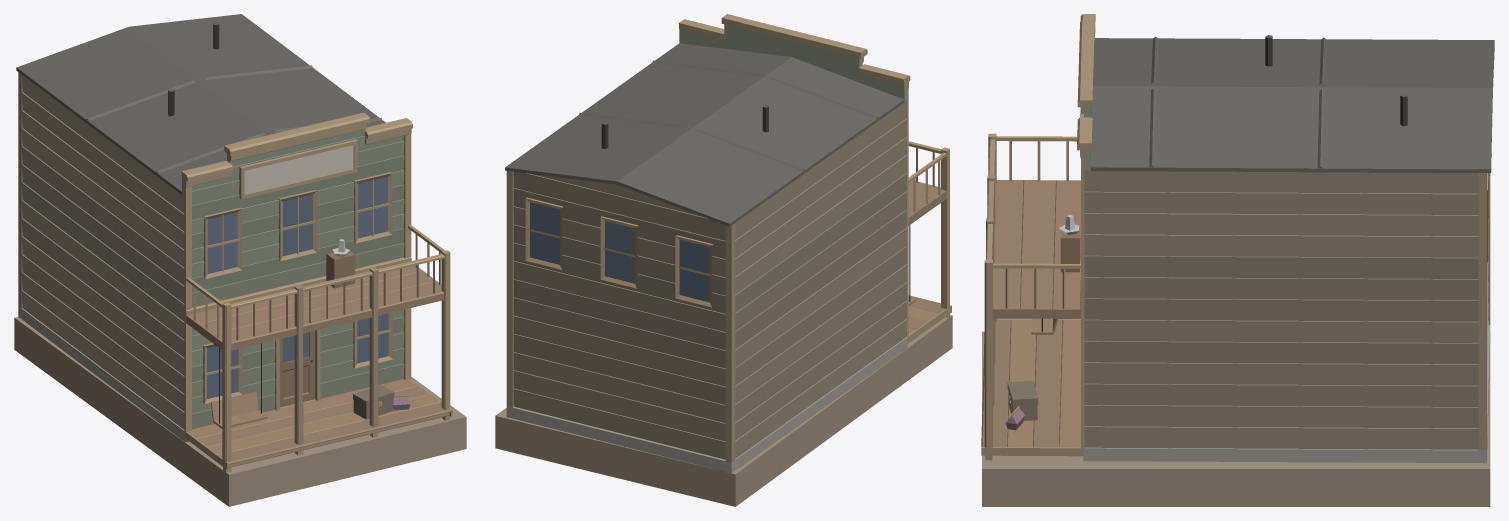
The model's file is house_2.glb.
3 views of the same model, side by side, from view 1: azimuth 30°, elevation 25°; view 2: azimuth 150°, elevation 25°; view 3: azimuth 270°, elevation 25° (orthographic). The views are drawn at different scales.
Visible parts, largest first — view 1: house_2; view 2: house_2; view 3: house_2.
Boxes of the visible parts, left/top/right/bottom form: house_2: left=14, top=14, right=466, bottom=506; house_2: left=495, top=14, right=952, bottom=506; house_2: left=981, top=14, right=1494, bottom=506.
Bounding box in the file's own units: 7.98 × 10.12 × 12.59.
